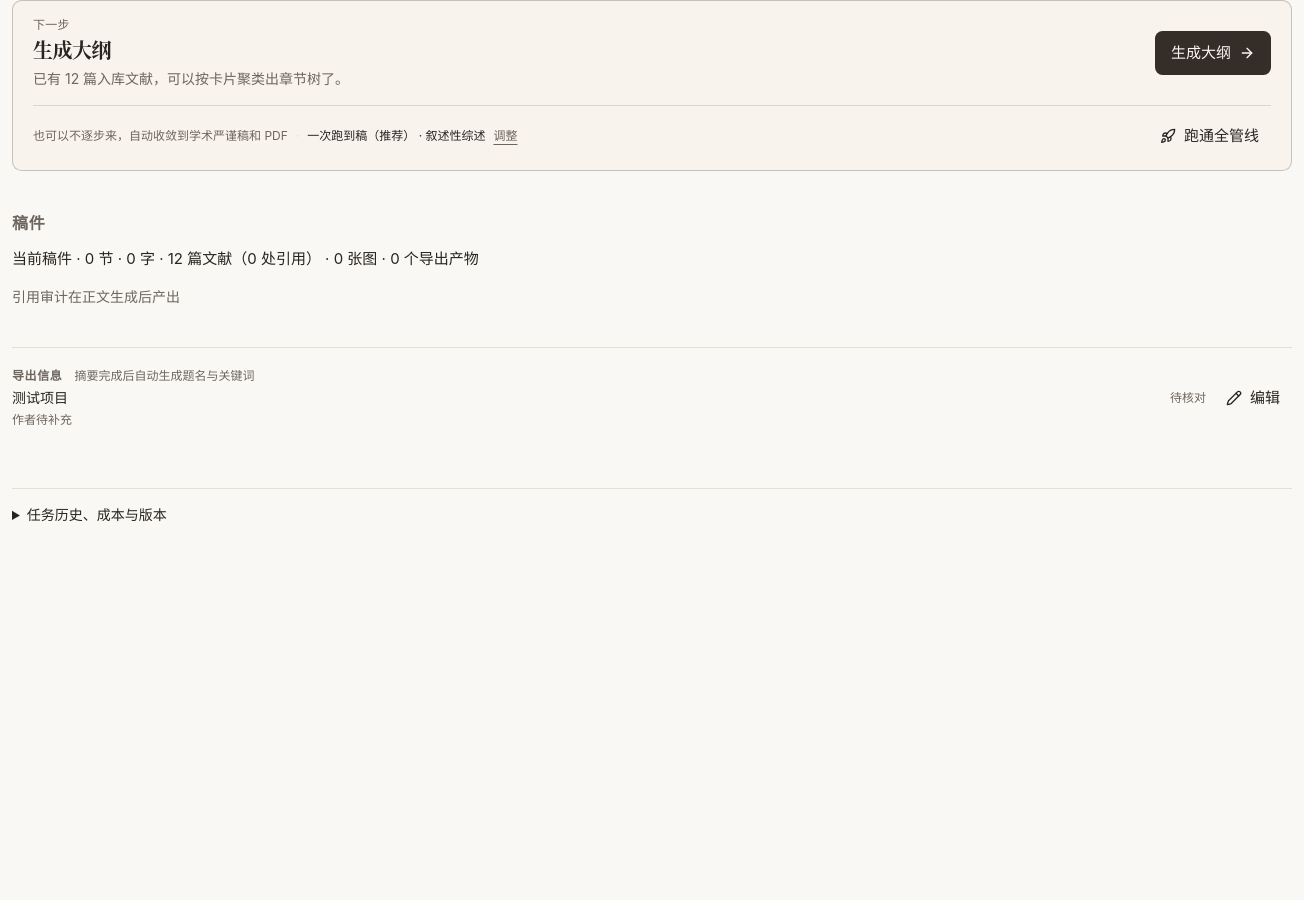
项目概览的「跑通全管线」按钮 › 质量模式 / 综述方式默认收起，只在「下一步」下方留一行当前取值
The image size is (1304, 900).
Expected: the text "一次跑到稿（推荐） · 叙述性综述" is shown, [307,128,486,143]
What coordinates should you click on to do the following:
click the button "调整"
I would click on:
 (506, 136)
Its box is [494,128,518,144].
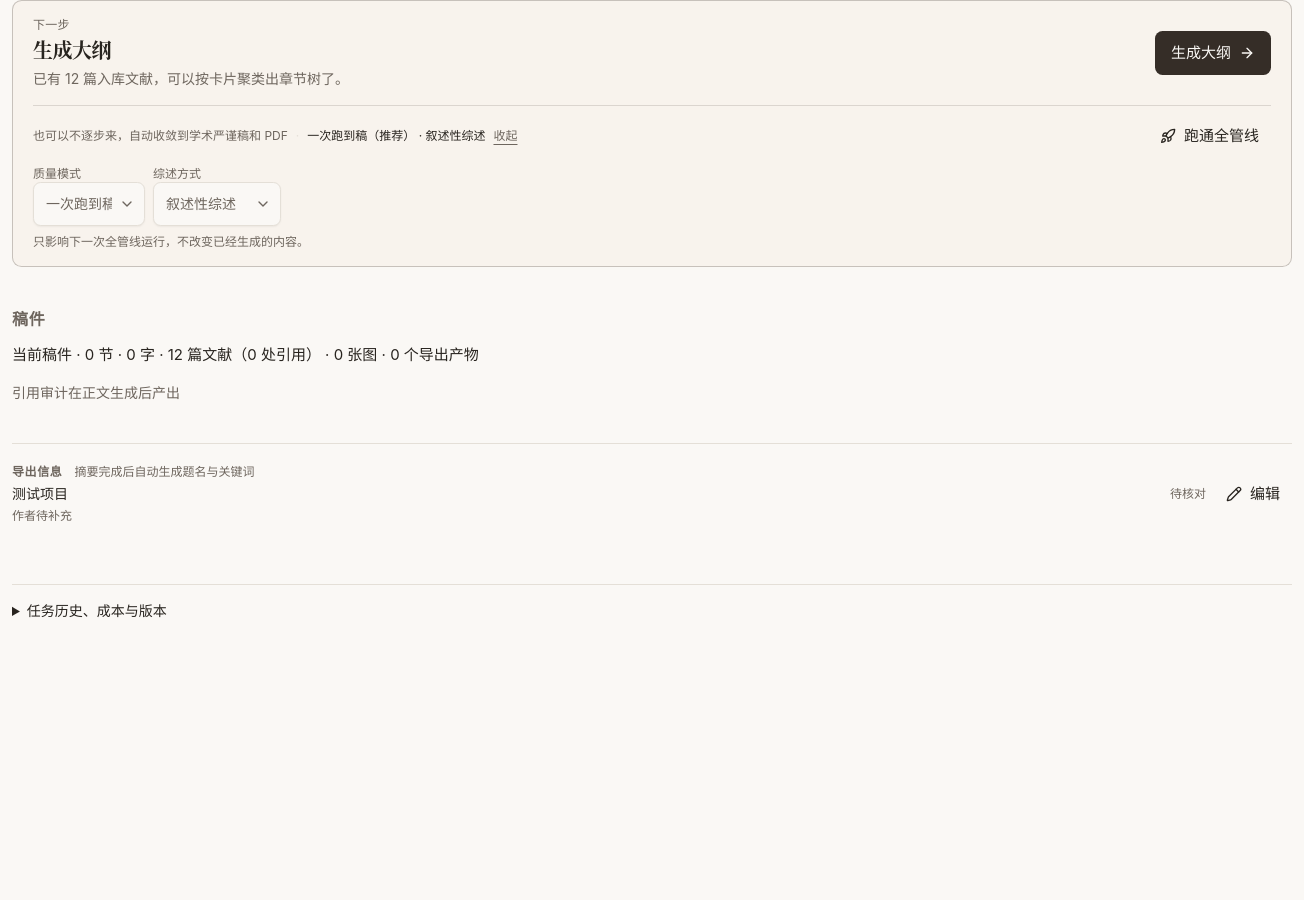
Expected: the number of dropdowns is 2, [33,182,145,226]; [153,182,281,226]
